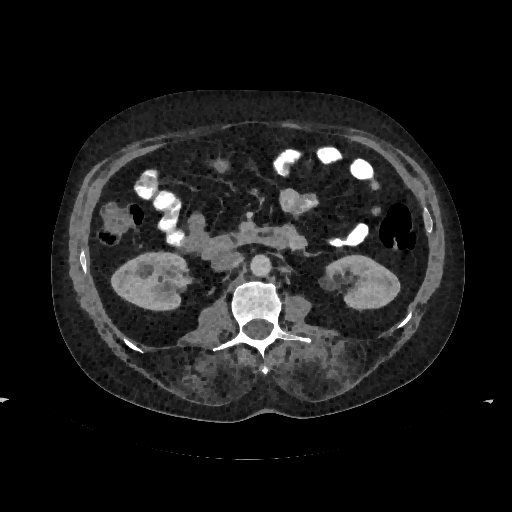Lesion: (136, 263, 155, 281)
